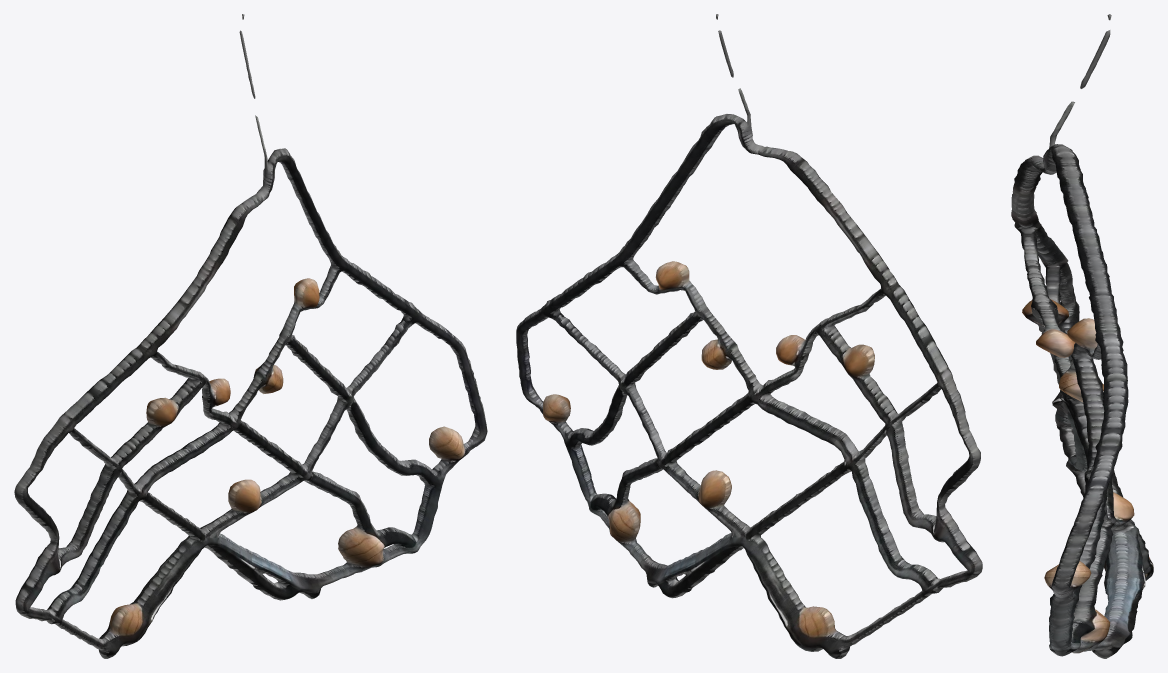
The model's file is hy3d-mov-020.glb.
3 views of the same model, side by side, from view 1: azimuth 30°, elevation 25°; view 2: azimuth 150°, elevation 25°; view 3: azimuth 270°, elevation 25° (orthographic). The views are drawn at different scales.
Parts seen in each view (by area): view 1: world; view 2: world; view 3: world.
Boxes of the visible parts, x1,y1,x2,y2 form: world: [14, 14, 487, 658]; world: [516, 14, 982, 658]; world: [1011, 14, 1153, 658].
Size of the model in its own units: 1.7 by 2.15 by 0.4414.
Materials: 1 (1 with a texture image).
